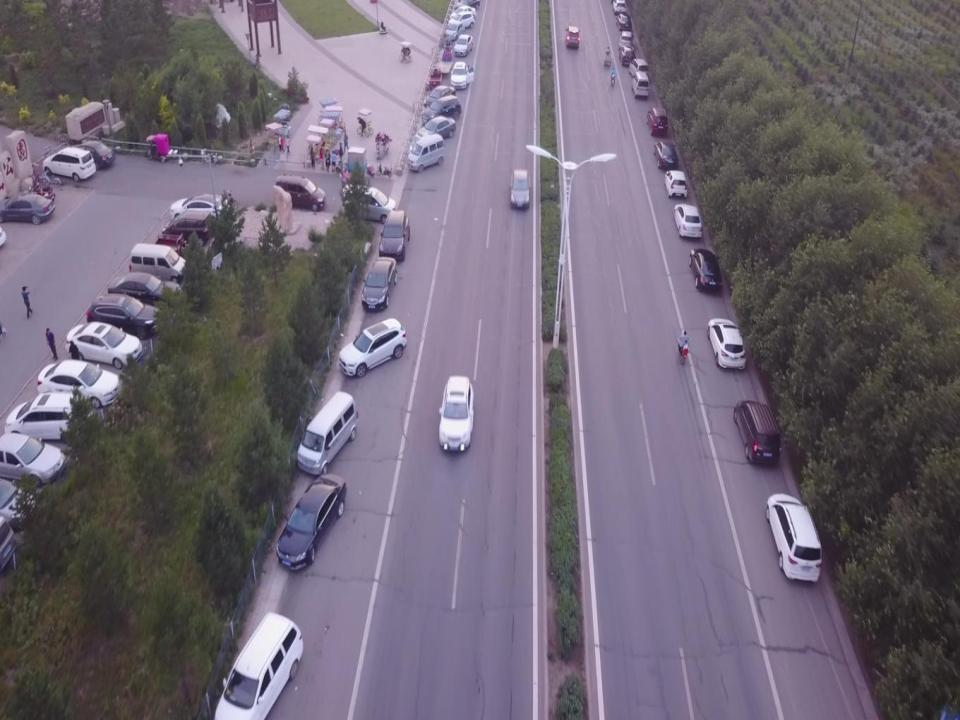car: (276, 472, 347, 572), (765, 493, 822, 583), (5, 393, 92, 444), (37, 358, 121, 408), (339, 318, 407, 378), (0, 431, 66, 488), (65, 321, 143, 369), (86, 294, 163, 340), (734, 400, 782, 466), (438, 374, 474, 452), (107, 273, 180, 311), (0, 476, 37, 532), (707, 317, 746, 369), (362, 256, 398, 312), (42, 146, 96, 182), (169, 193, 231, 224), (162, 210, 213, 246), (0, 194, 55, 225), (378, 210, 410, 262), (689, 248, 723, 292), (70, 140, 116, 170), (422, 95, 462, 126), (415, 117, 456, 145), (673, 203, 702, 238), (510, 168, 530, 210), (424, 85, 456, 109), (653, 140, 678, 170), (450, 62, 474, 90), (664, 170, 687, 198), (646, 108, 668, 137), (448, 10, 475, 31), (628, 58, 650, 81), (449, 4, 476, 22), (618, 45, 636, 68), (444, 20, 464, 40), (454, 0, 481, 13), (566, 25, 580, 49), (618, 30, 634, 51), (616, 12, 632, 32), (613, 0, 627, 16)
van: (213, 612, 303, 720), (297, 390, 359, 475), (128, 244, 186, 285), (342, 183, 396, 225), (275, 174, 326, 212), (406, 133, 445, 173), (0, 516, 18, 578), (631, 70, 649, 100)
